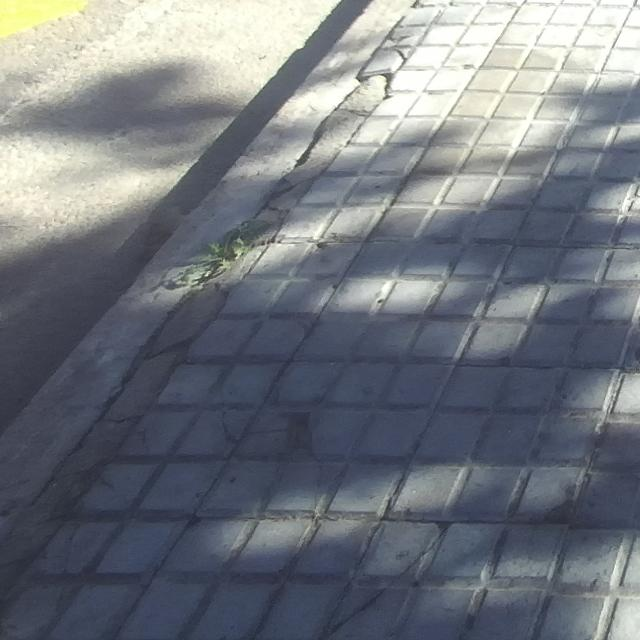calcada_quebrada: (317, 519, 463, 636), (214, 407, 285, 460), (378, 34, 414, 66)
